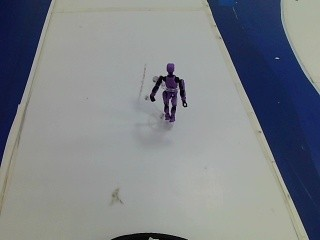pedestrian: (147, 61, 188, 123)
